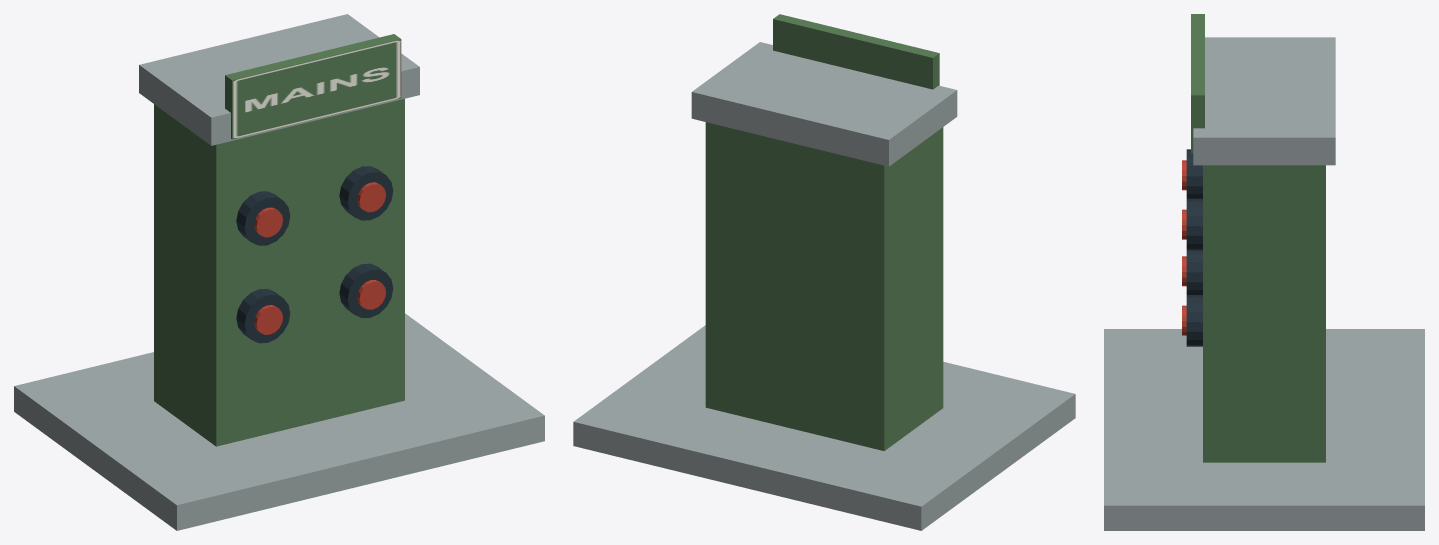
File: scendance-plan-permanent-power.glb
3 renders of one model, left to right at view 1: azimuth 30°, elevation 25°; view 2: azimuth 150°, elevation 25°; view 3: azimuth 270°, elevation 25°, orthographic. The views are drawn at different scales.
Bounding box in the file's own units: 1.5 × 1.53 × 1.15.
Materials: 5 (1 with a texture image).
